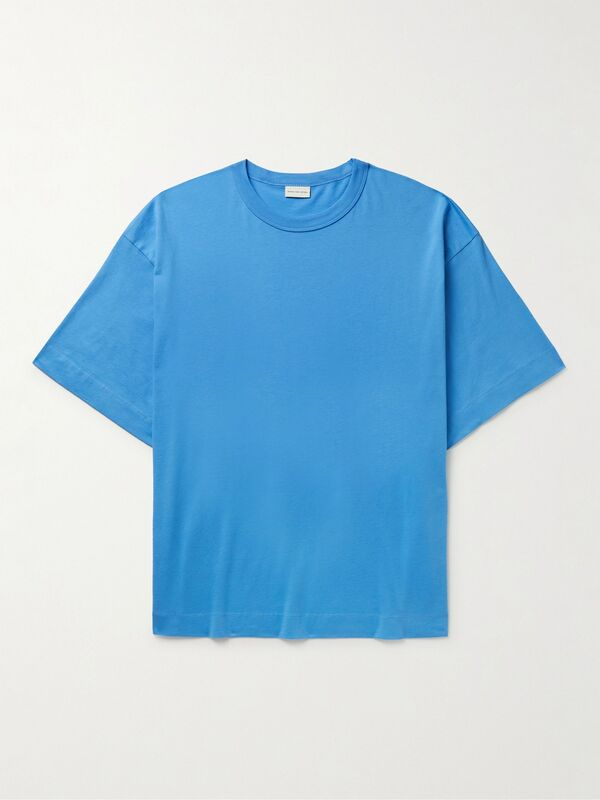tshirt: (29, 156, 570, 648)
